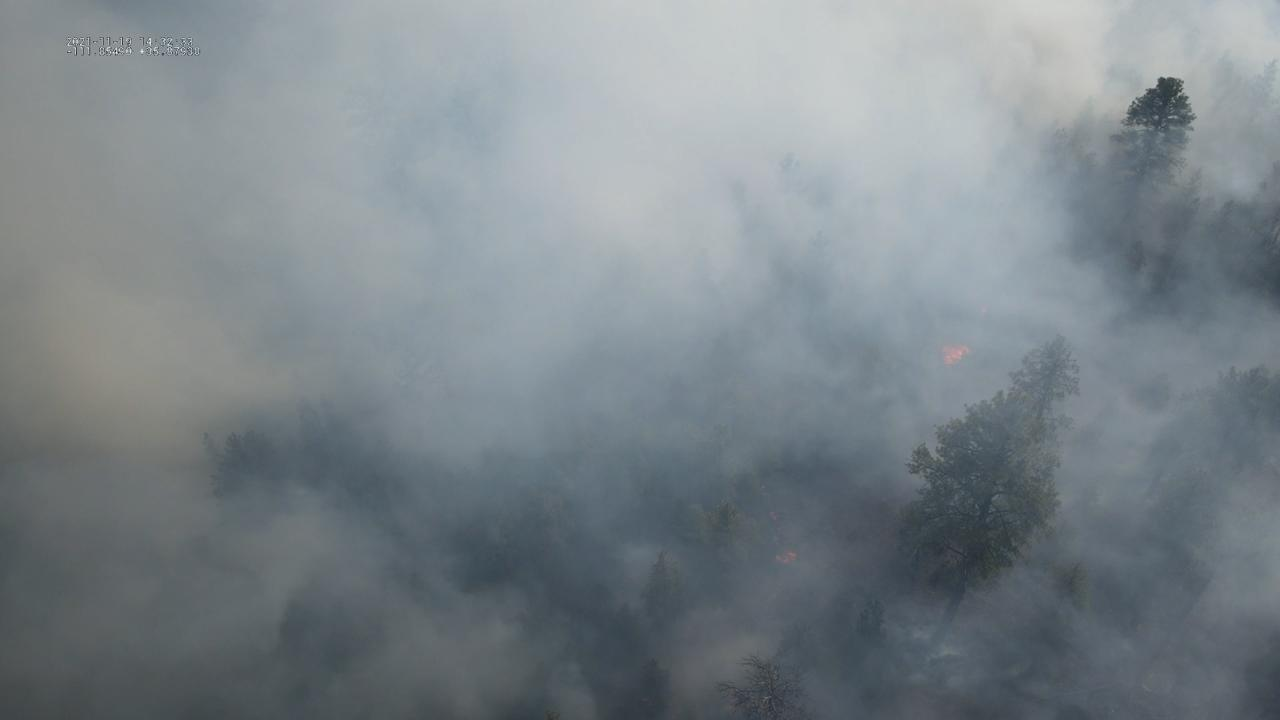fire: (940, 340, 973, 366), (774, 550, 798, 565), (765, 510, 779, 523)
smoke: (0, 0, 1280, 720)
